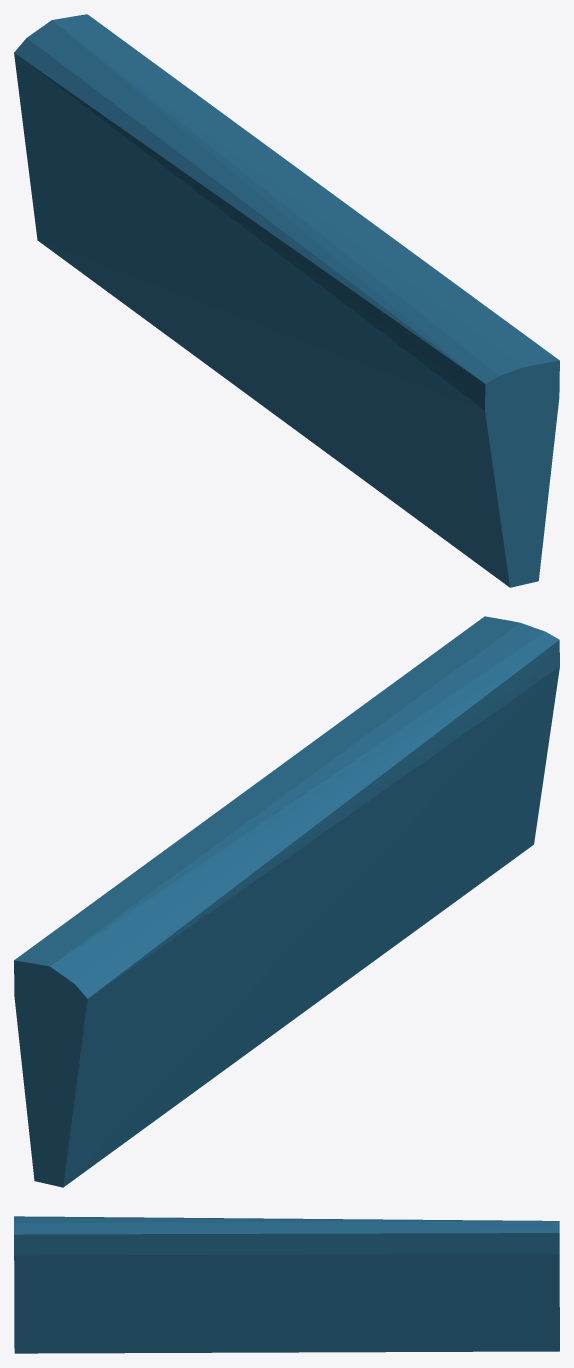
Rendered from converted_Downdraft_Assy_collision_53_2b7092ff.obj.
The picture shows the model from 3 angles, top to bottom: view 1: azimuth 30°, elevation 25°; view 2: azimuth 150°, elevation 25°; view 3: azimuth 270°, elevation 25°; orthographic projection. The views are drawn at different scales.
Size of the model in its own units: 0.0453 by 0.1271 by 0.4928.
